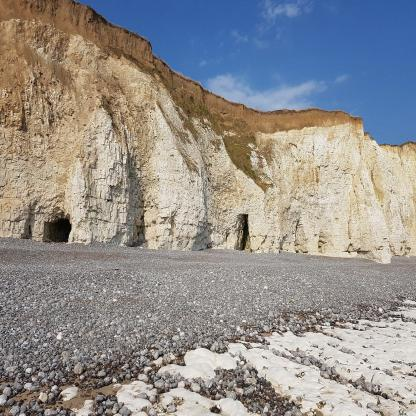Sedimentary_Chalk: (259, 152, 359, 241), (64, 136, 121, 228), (147, 148, 192, 241), (377, 167, 416, 242)
